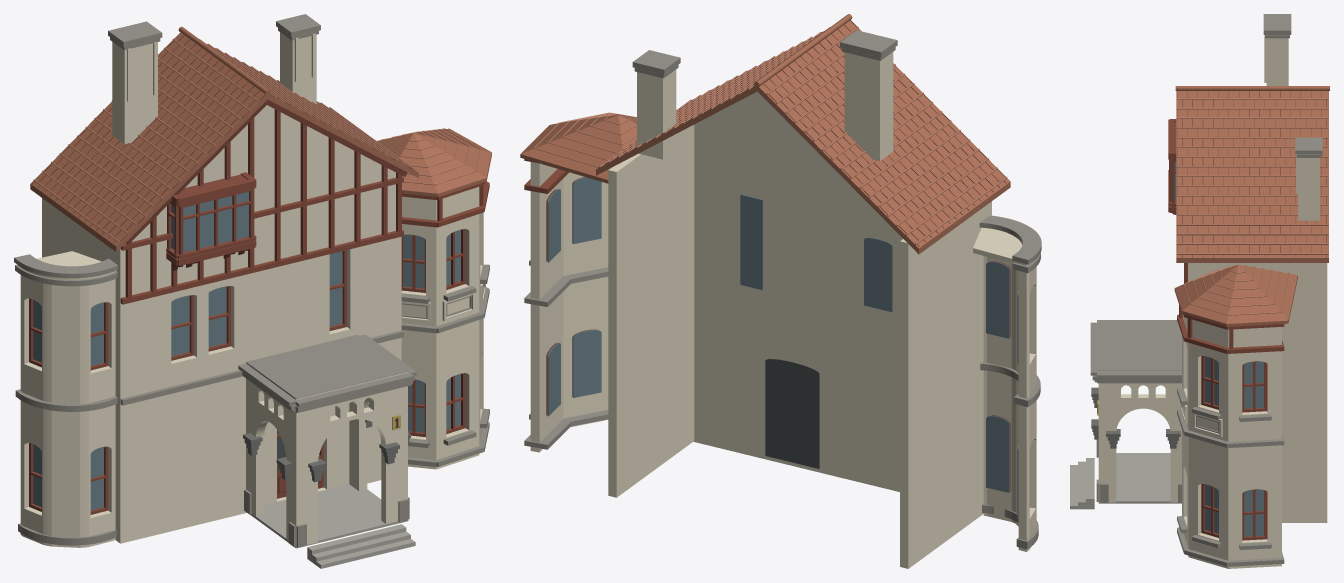
The model's file is xuhui-dingxiang-garden-main-house-raw.glb.
3 renders of one model, left to right at view 1: azimuth 30°, elevation 25°; view 2: azimuth 150°, elevation 25°; view 3: azimuth 270°, elevation 25°, orthographic. The views are drawn at different scales.
Visible parts, largest first — view 1: 丁香花园一号楼拱廊与露木山墙; view 2: 丁香花园一号楼拱廊与露木山墙; view 3: 丁香花园一号楼拱廊与露木山墙.
Boxes of the visible parts, <box> form: 丁香花园一号楼拱廊与露木山墙: <box>14,14,491,568</box>; 丁香花园一号楼拱廊与露木山墙: <box>520,14,1041,568</box>; 丁香花园一号楼拱廊与露木山墙: <box>1070,14,1329,568</box>.
Bounding box in the file's own units: 12.95 × 12.52 × 7.08.
